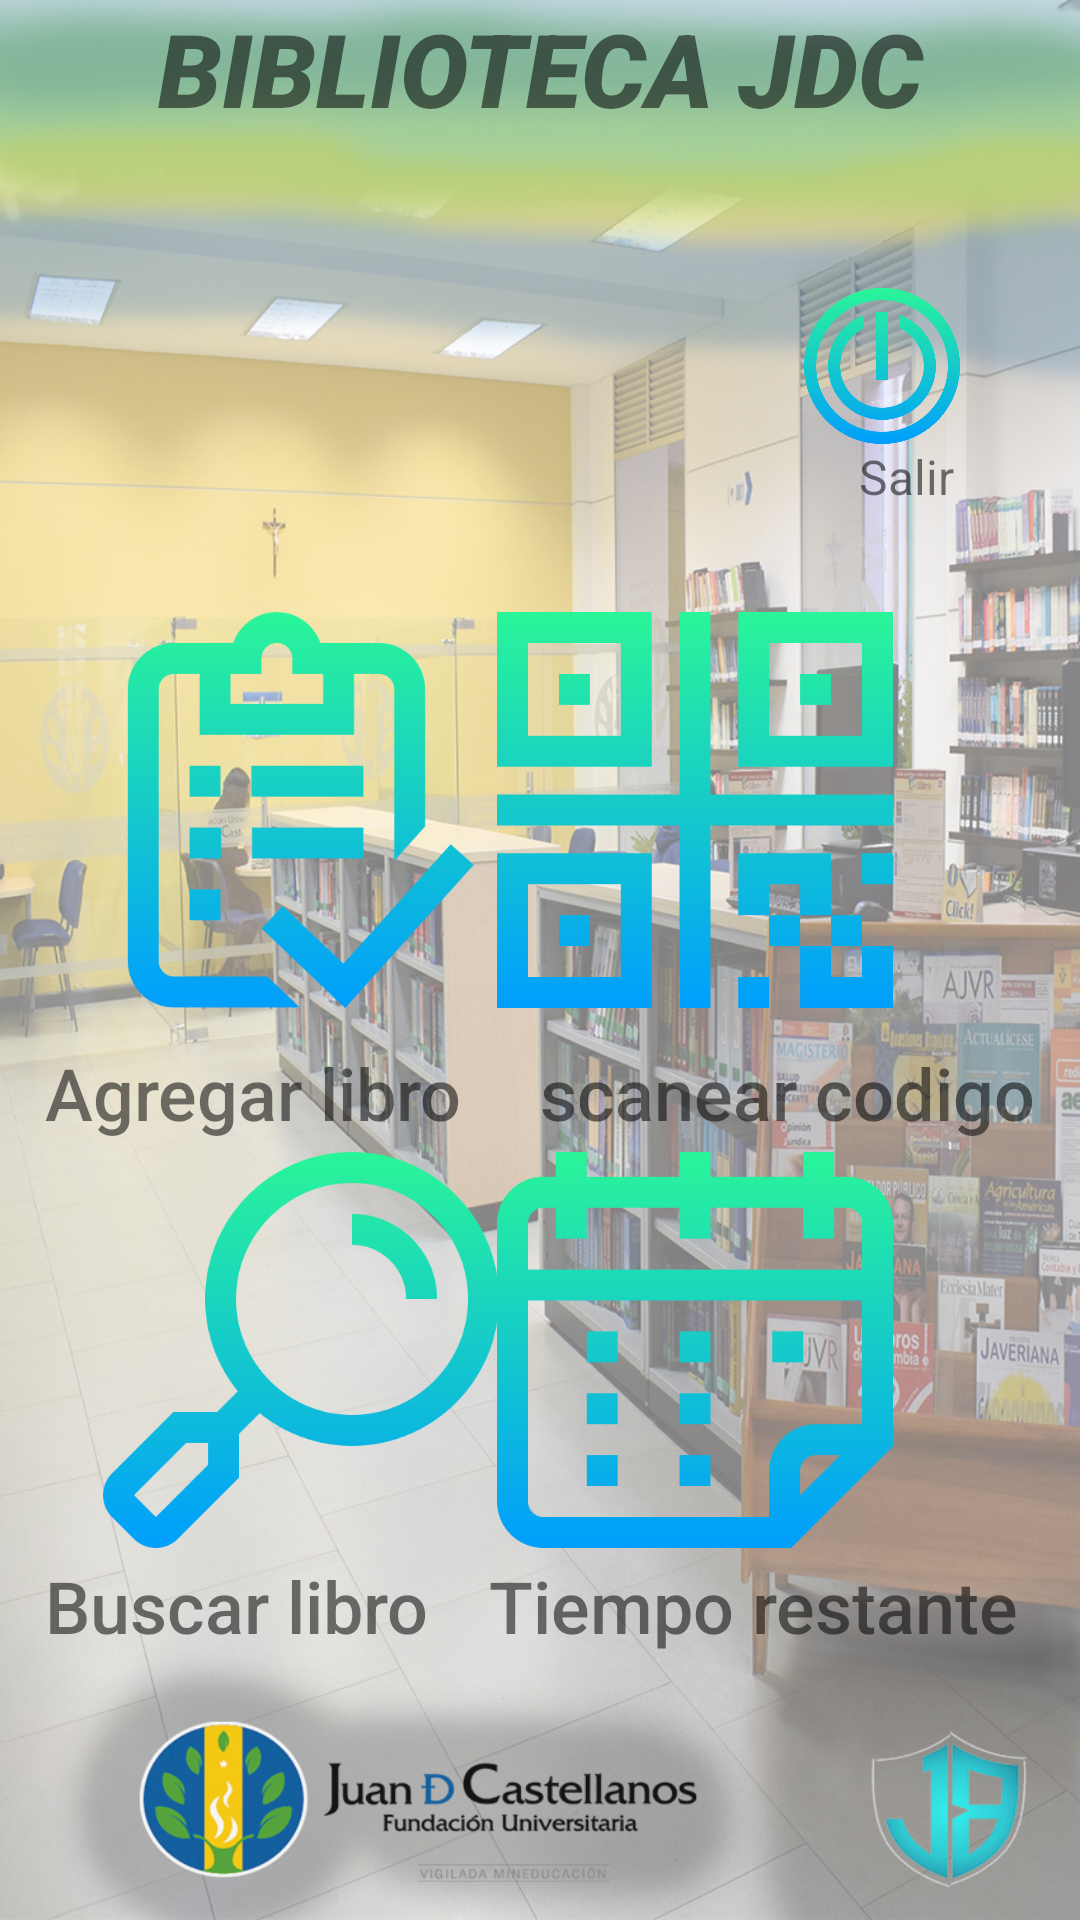

Icons on this 1080 x 1920 Android screen, each with the point to tap as (x=x, y=y):
potencia: (x=882, y=366)
